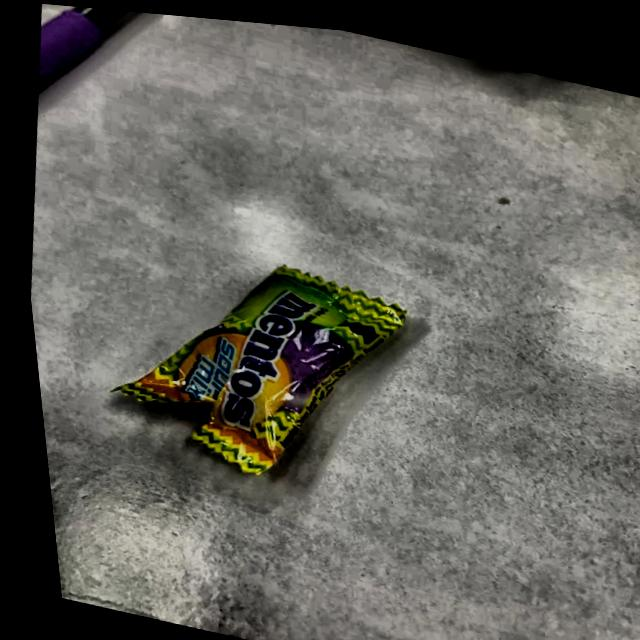Plastic: (87, 210, 444, 501)
